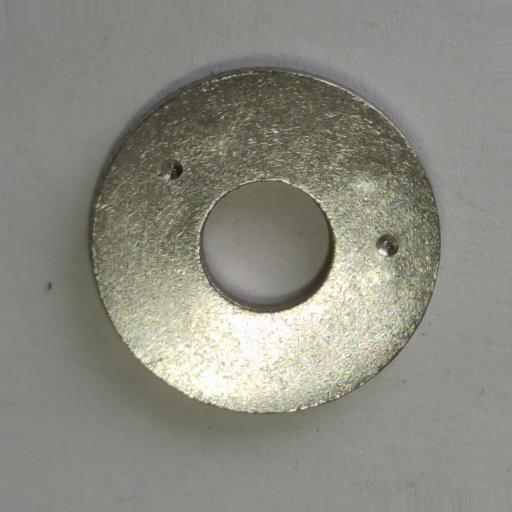circular_cavity: (375, 233, 399, 257), (158, 160, 182, 182)
